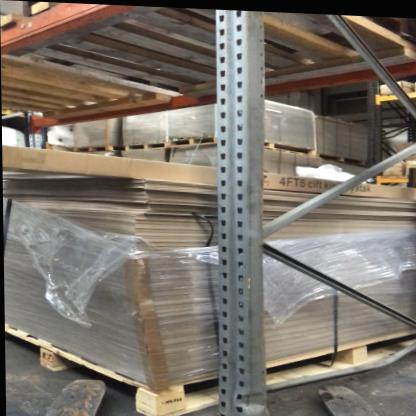vertical_damage: (205, 379, 275, 416)
